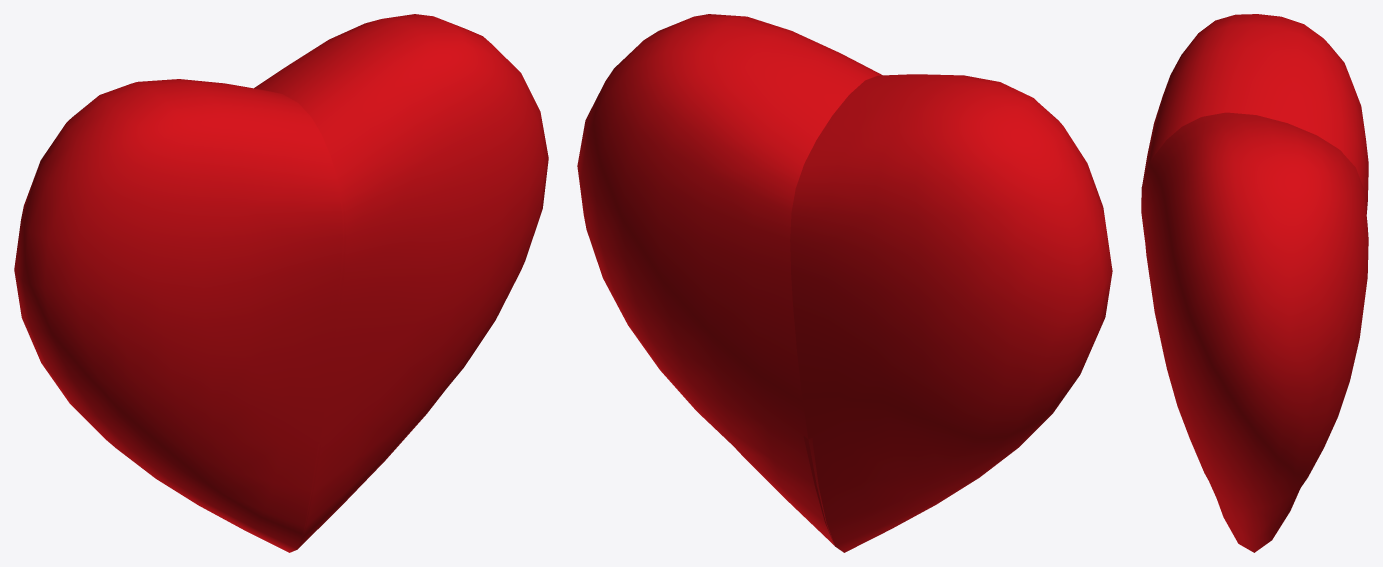
File: heart.fbx
3 views of the same model, side by side, from view 1: azimuth 30°, elevation 25°; view 2: azimuth 150°, elevation 25°; view 3: azimuth 270°, elevation 25° (orthographic). The views are drawn at different scales.
Visible parts, largest first — view 1: Cube; view 2: Cube; view 3: Cube.
Boxes of the visible parts, bbox=[...] form: Cube: bbox=[14, 14, 548, 552]; Cube: bbox=[577, 14, 1112, 552]; Cube: bbox=[1141, 14, 1368, 552].
Bounding box in the file's own units: 271 × 248 × 109.
